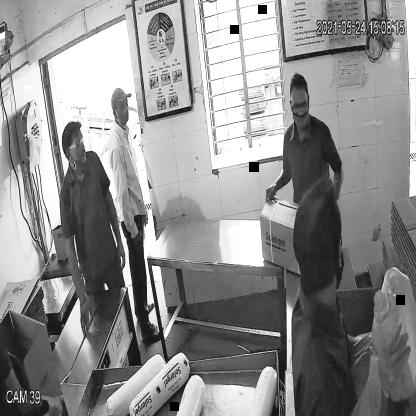goggles: (290, 95, 310, 117), (62, 135, 85, 154)
no_goggles: (112, 100, 130, 116)
